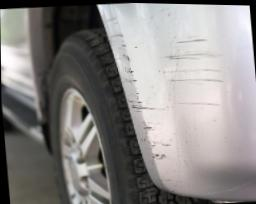Bumper: (111, 7, 247, 178)
